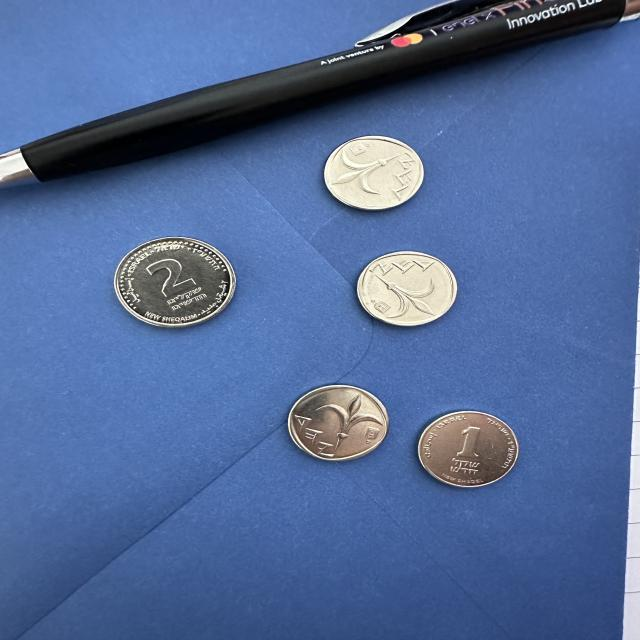1-shekel: (353, 250, 464, 328), (417, 406, 521, 487), (284, 383, 390, 462), (325, 134, 425, 212)
2-shekel: (113, 235, 245, 325)
